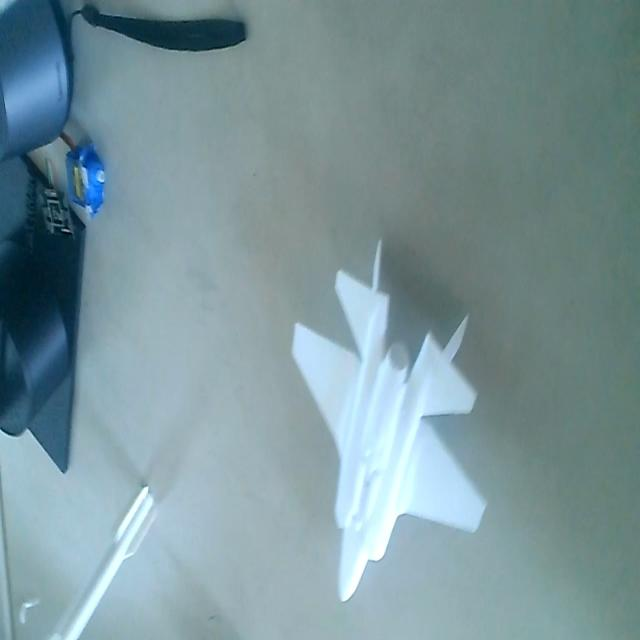Jet: (290, 235, 490, 620)
Rocket: (36, 473, 166, 640)
